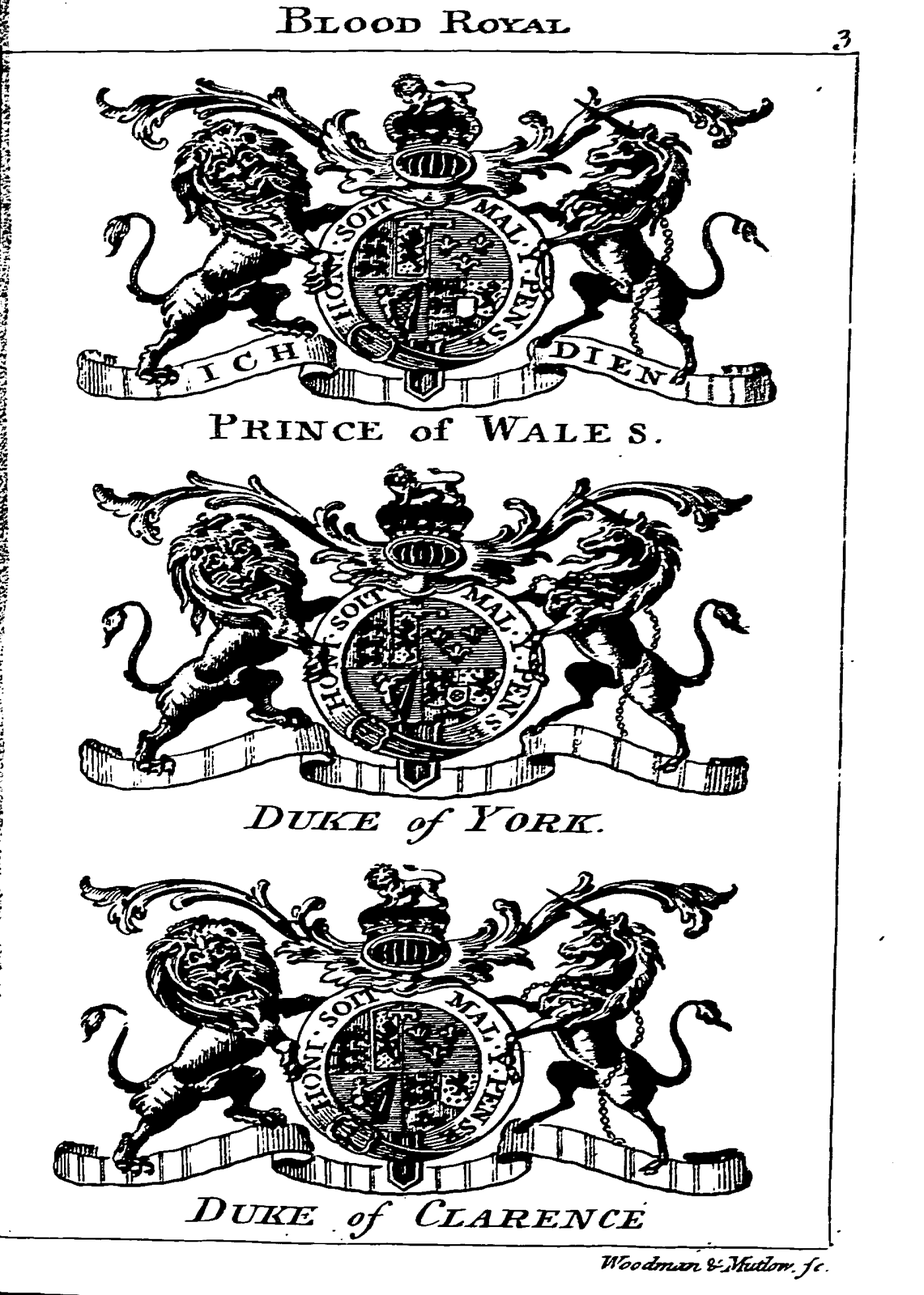coat_of_arms: (48, 48, 790, 455), (66, 837, 765, 1238), (56, 453, 756, 831)
